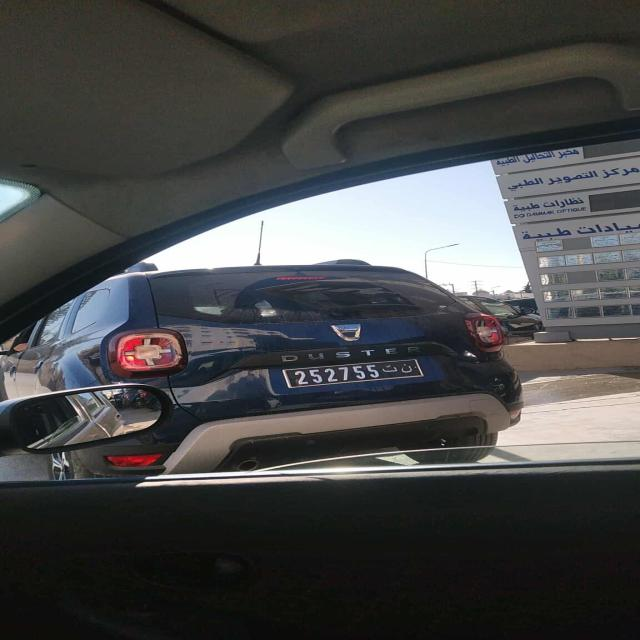licence plate: (286, 360, 422, 387)
